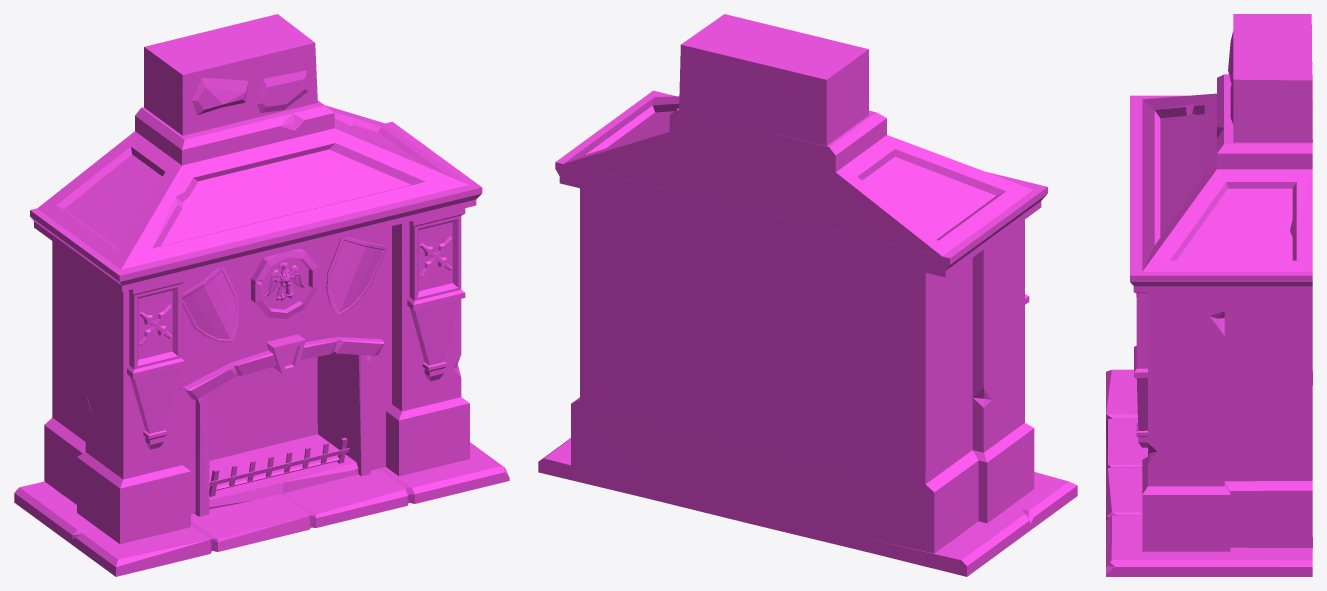
Rendered from SM_Fireplace_Royale_B_Fantasy.fbx.
The picture shows the model from 3 angles, left to right: view 1: azimuth 30°, elevation 25°; view 2: azimuth 150°, elevation 25°; view 3: azimuth 270°, elevation 25°; orthographic projection. The views are drawn at different scales.
Visible parts, largest first — view 1: SM_Fireplace_Royale_B_Fantasy; view 2: SM_Fireplace_Royale_B_Fantasy; view 3: SM_Fireplace_Royale_B_Fantasy.
Boxes of the visible parts, x1,y1,x2,y2 form: SM_Fireplace_Royale_B_Fantasy: [14, 14, 509, 576]; SM_Fireplace_Royale_B_Fantasy: [538, 14, 1077, 576]; SM_Fireplace_Royale_B_Fantasy: [1106, 14, 1312, 576].
Size of the model in its own units: 2.91 by 3 by 1.3.
